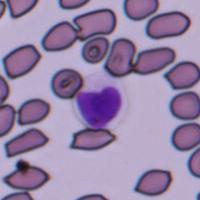M: (73, 75, 130, 130)
